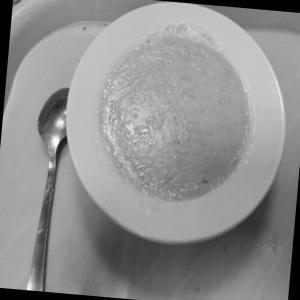porridge: (88, 13, 263, 215)
